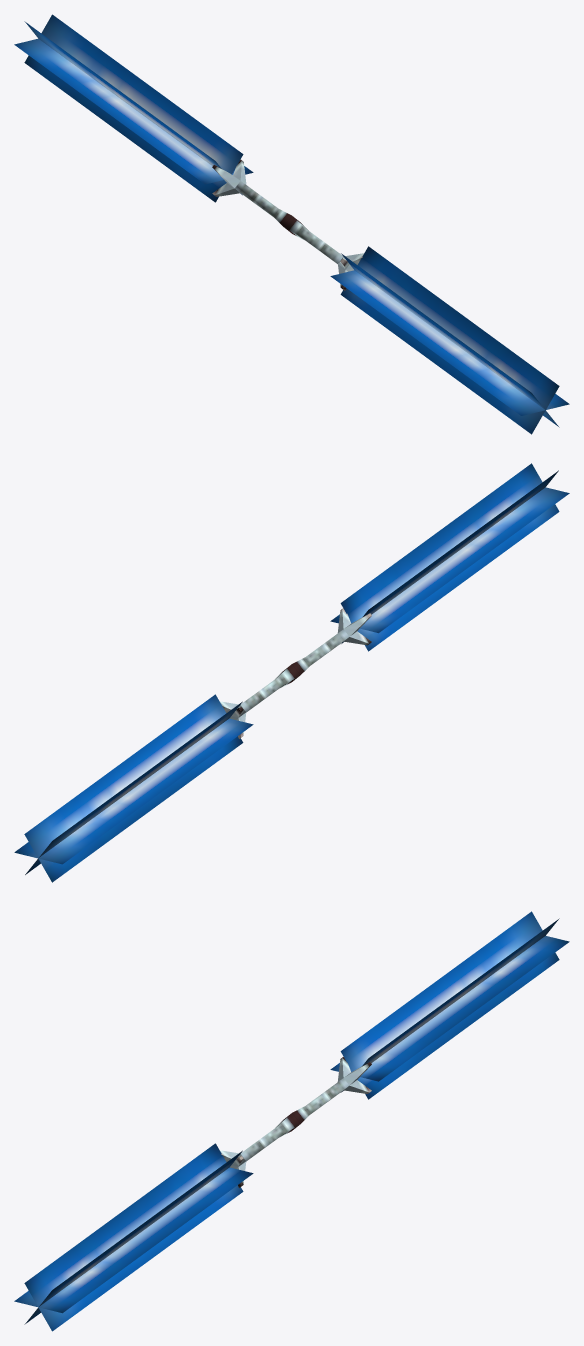
The model's file is heiwushi.FBX.
3 renders of one model, top to bottom at view 1: azimuth 30°, elevation 25°; view 2: azimuth 150°, elevation 25°; view 3: azimuth 330°, elevation 25°, orthographic.
Visible parts, largest first — view 1: Spear01; view 2: Spear01; view 3: Spear01.
Boxes of the visible parts, x1,y1,x2,y2 form: Spear01: (14, 14, 569, 434); Spear01: (14, 463, 569, 882); Spear01: (14, 911, 569, 1331).
Bounding box in the file's own units: 45.2 × 37.49 × 817.
